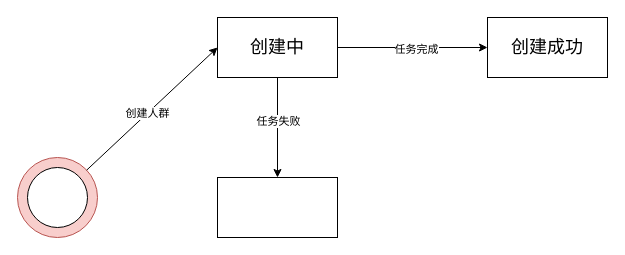
Image size: 625x255. Some labels were removed from this diagram. The box of each missing label's shape, as (x1, y1, x2, y2) in pixels:
创建失败: (216, 176, 338, 238)
新建: (26, 166, 88, 228)
